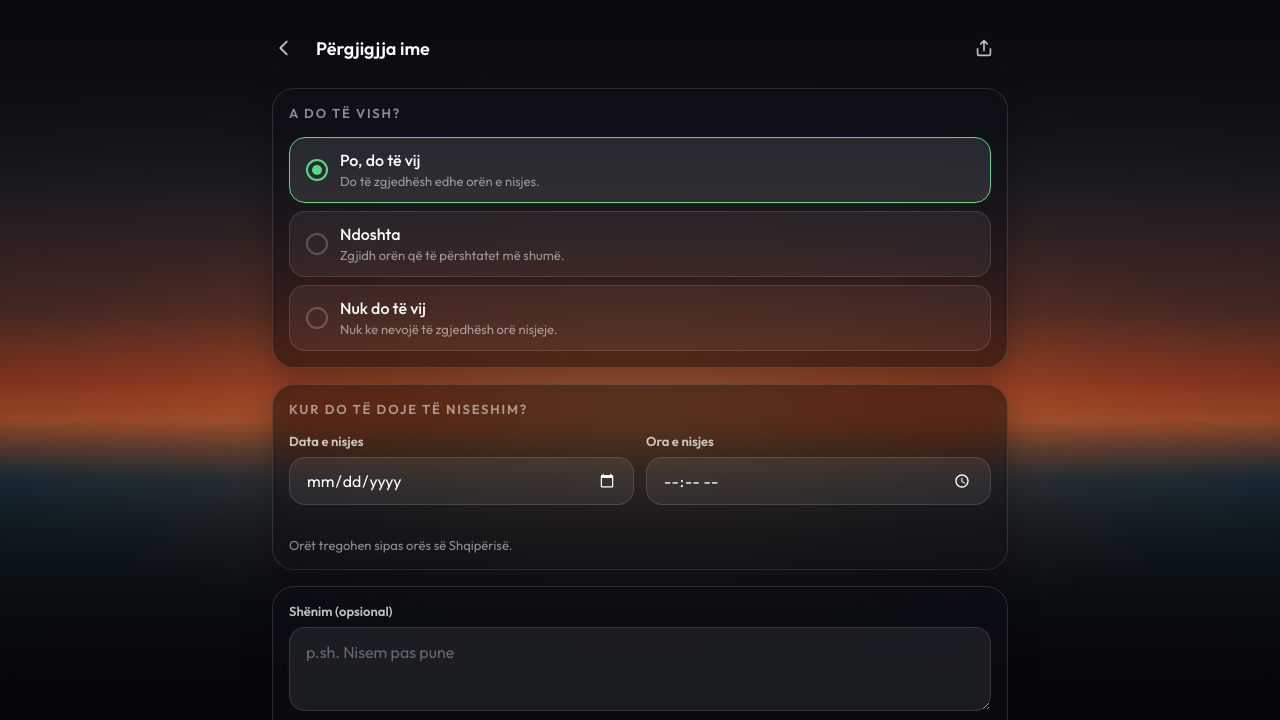
Test: <MyResponseScreen> › hides the departure pickers when the member is not coming
Click the radio button labelled "Nuk do të vij". click: (383, 308)
box: [289,285,991,351]
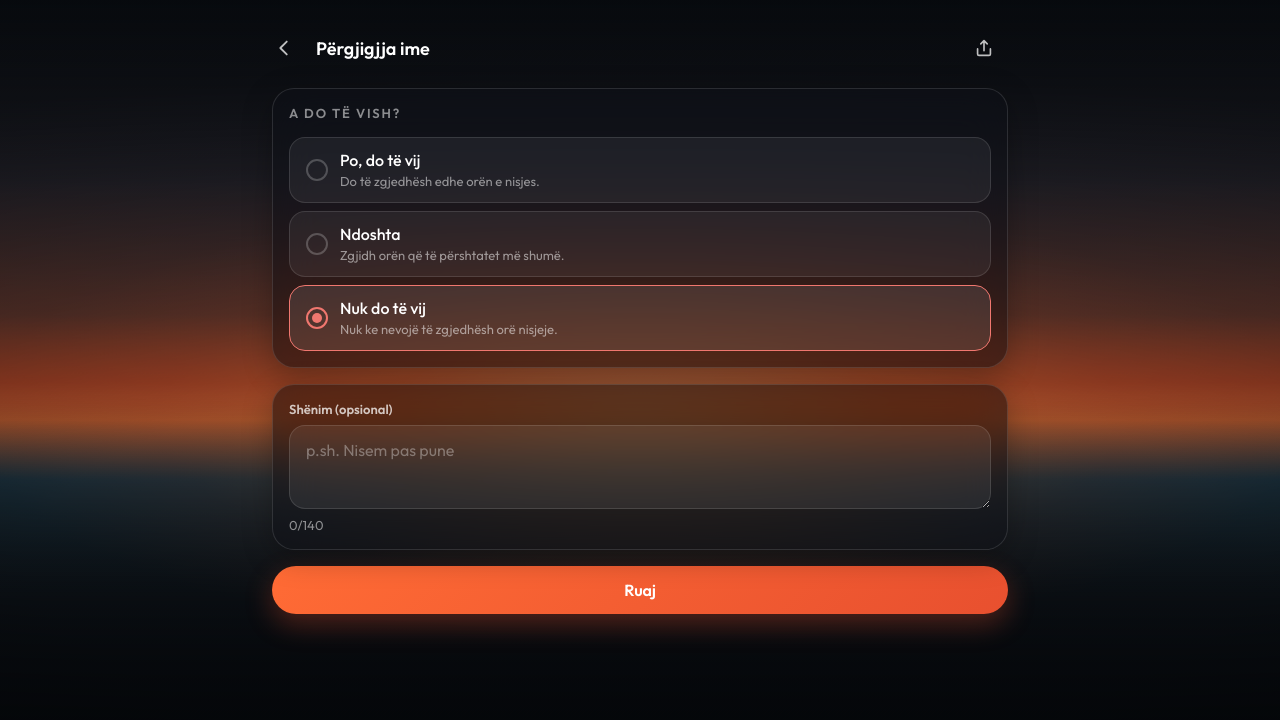
expect the label labelled "Data e nisjes" is gone: met
expect the label labelled "Ora e nisjes" is gone: met
